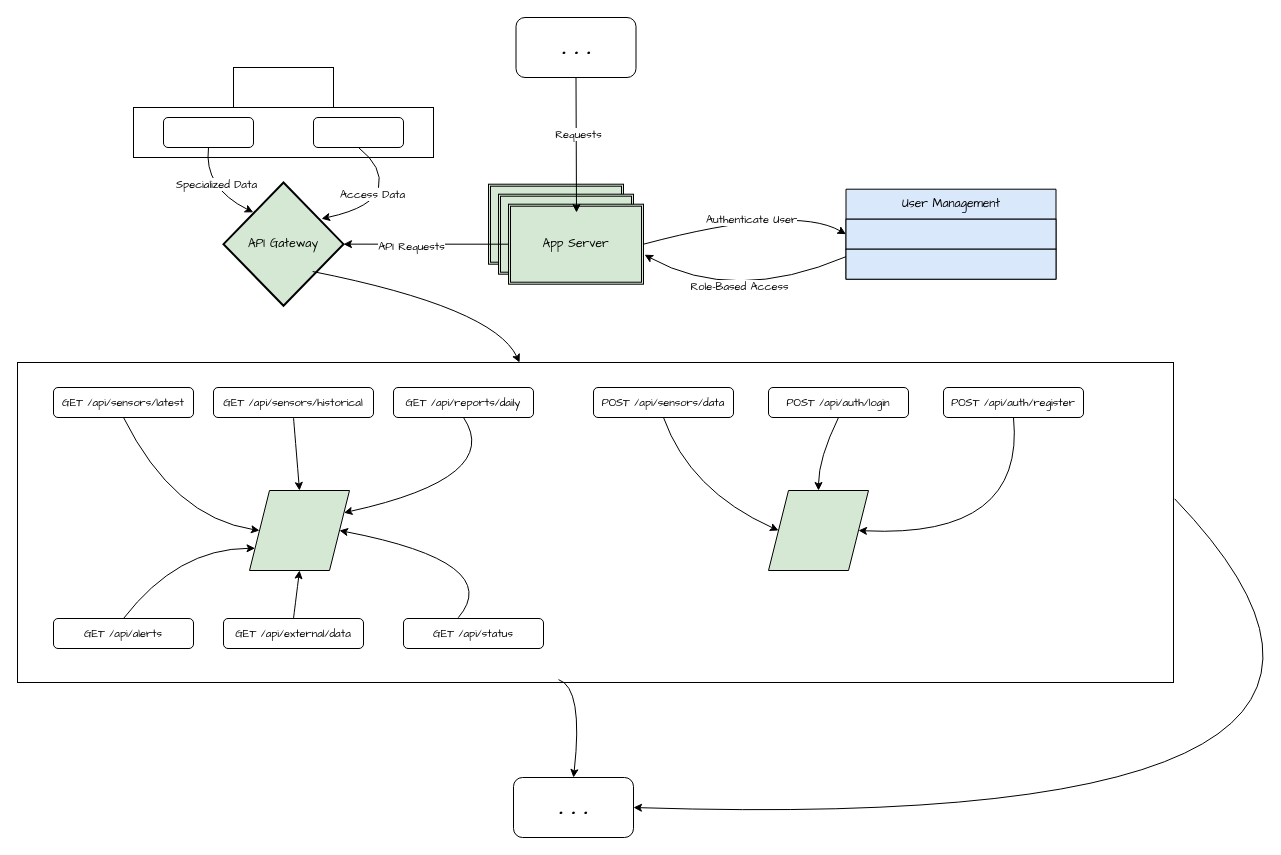
This 1281x855 diagram has some shape labels left out. The shapes that lost their labels are listed below. From the top down, each one's centre as x and y in pixels, then its label:
(283,87): External
(208,132): Private API
(358,132): Public API
(950,233): Authentication OAUTH2
(950,263): Role Management
(299,530): Read API
(818,530): Write API
